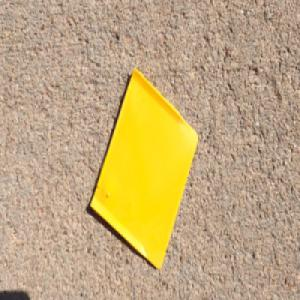PlasticPart: (88, 68, 197, 272)
